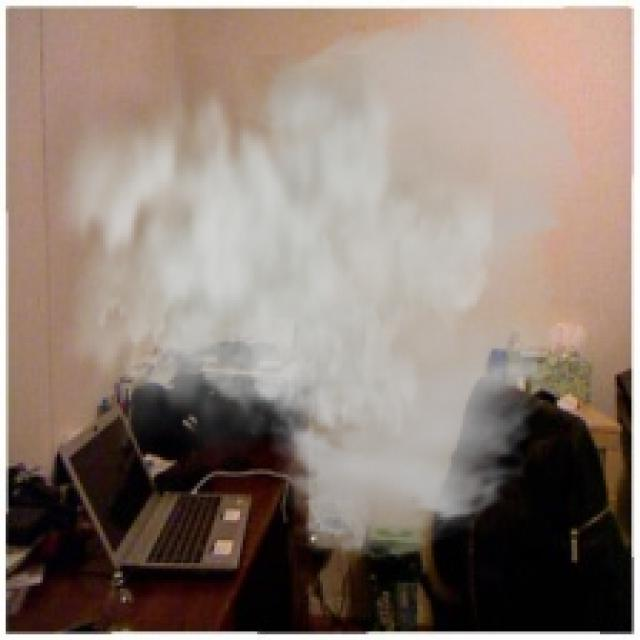smoke: (28, 0, 586, 563)
